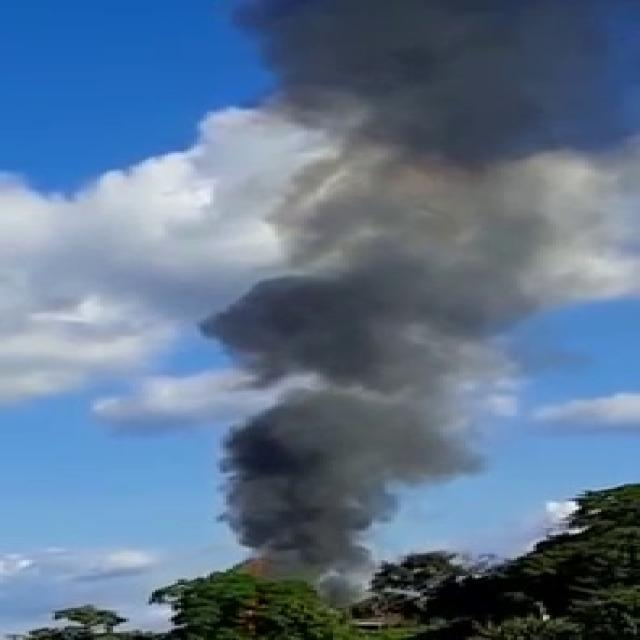Smoke: (213, 7, 618, 621)
